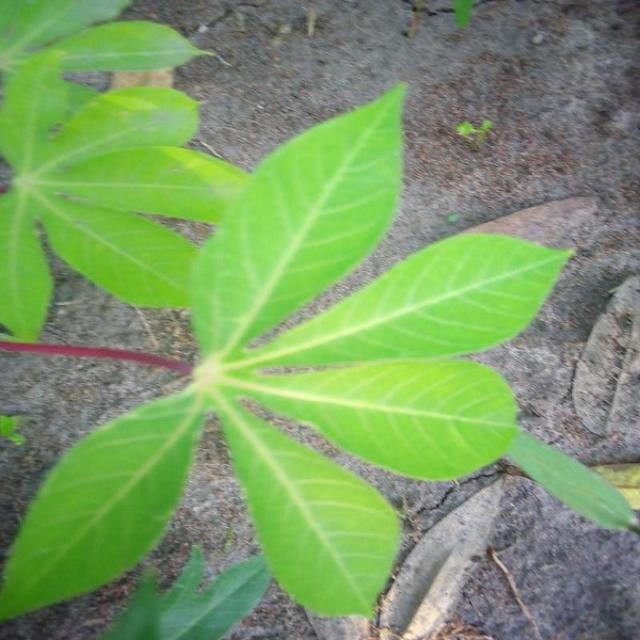cassava leaf: (2, 74, 636, 632), (190, 79, 410, 363), (2, 384, 207, 622)
